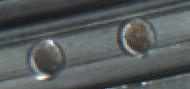joints: (28, 37, 67, 80), (117, 16, 156, 58)
